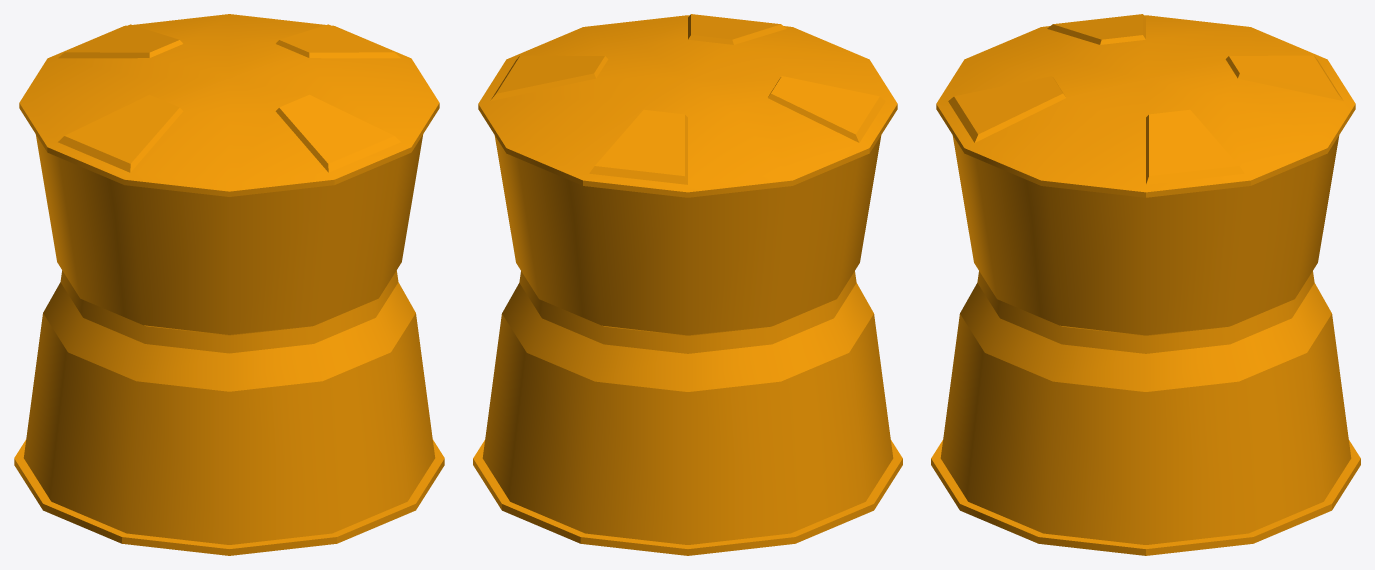
The model's file is barrel.glb.
The picture shows the model from 3 angles, left to right: view 1: azimuth 30°, elevation 25°; view 2: azimuth 150°, elevation 25°; view 3: azimuth 270°, elevation 25°; orthographic projection.
Parts seen in each view (by area): view 1: stklib_fitchBarrel_a_main; view 2: stklib_fitchBarrel_a_main; view 3: stklib_fitchBarrel_a_main.
Boxes of the visible parts, x1,y1,x2,y2 form: stklib_fitchBarrel_a_main: [14, 14, 444, 555]; stklib_fitchBarrel_a_main: [473, 14, 902, 555]; stklib_fitchBarrel_a_main: [931, 14, 1360, 555].
Bounding box in the file's own units: 1.43 × 1.43 × 1.43.
